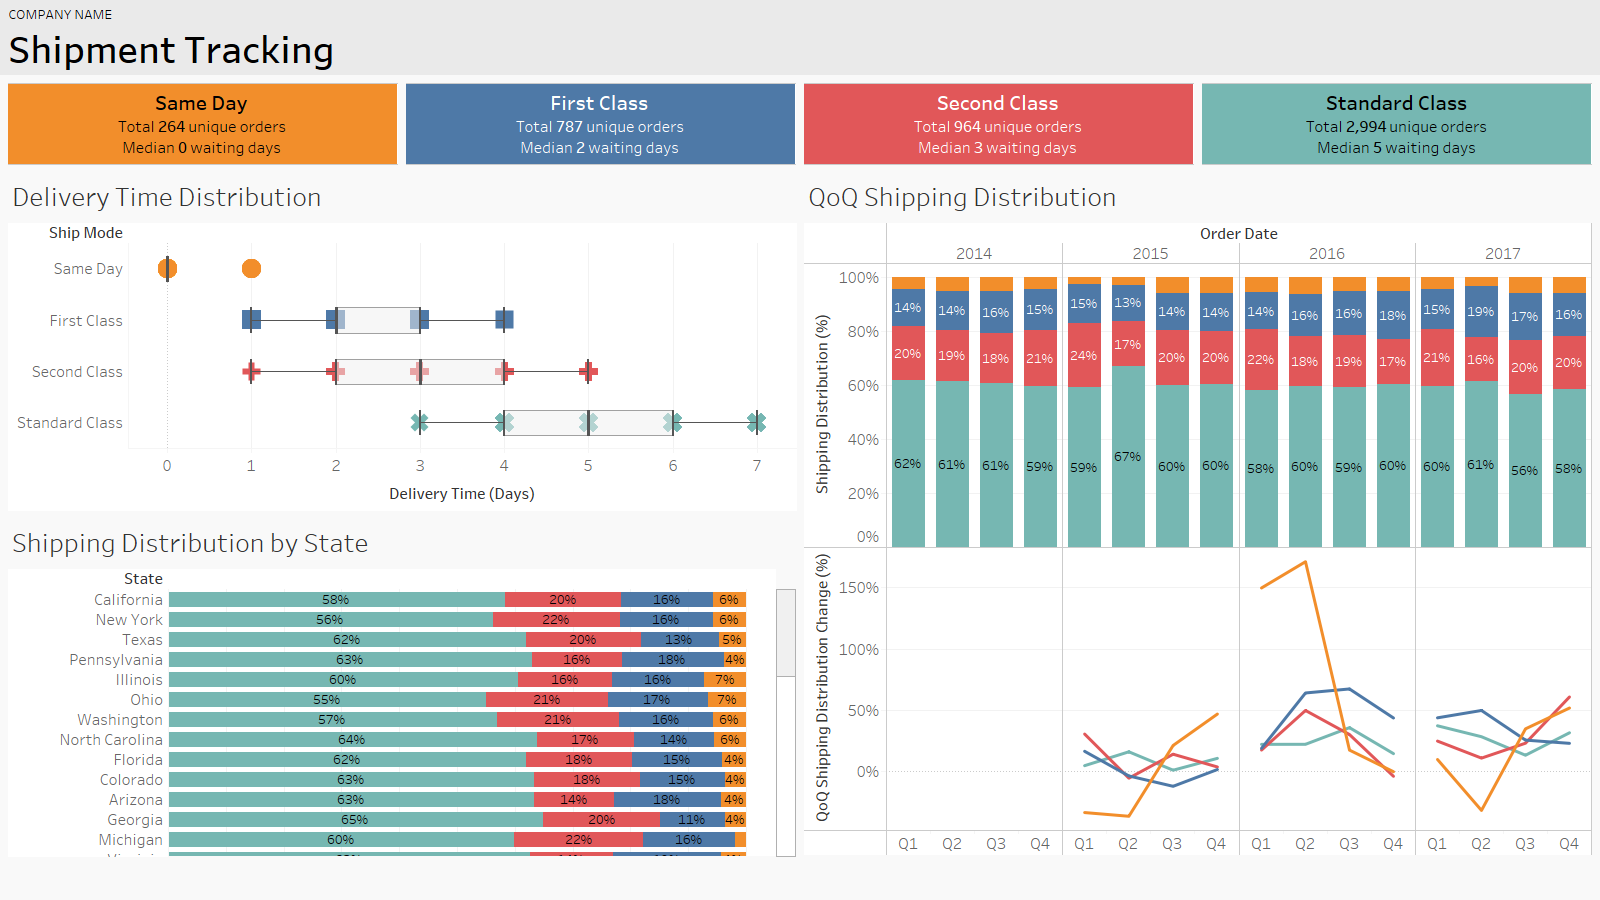

Layout of this report page (visuals, bound fields, positions):
{"tool":"tableau","page":{"name":"Shipment Tracking","canvas":[1600,900],"ordinal":3},"visuals":[{"type":"text","box":[0,0,1600,75]},{"type":"blank","box":[0,0,663.4,77.4]},{"type":"text","box":[663.4,0,836.3,77.4]},{"type":"blank","box":[1499.7,0,100.3,77.4]},{"type":"blank","box":[0,77.4,72.5,68]},{"type":"text","box":[72.5,77.4,1527.5,68]},{"type":"worksheet","title":"Ship Same Day","mark":"Square","cols":["SHIP_MODE"],"box":[4,79,398,90]},{"type":"worksheet","title":"Ship First Class","mark":"Square","cols":["SHIP_MODE"],"box":[402,79,398,90]},{"type":"worksheet","title":"Ship Second Class","mark":"Square","cols":["SHIP_MODE"],"box":[800,79,398,90]},{"type":"worksheet","title":"Ship Standard Class","mark":"Square","cols":["SHIP_MODE"],"box":[1198,79,398,90]},{"type":"blank","box":[0,145.5,1600,5.2]},{"type":"text","box":[0,150.7,400,83.7]},{"type":"text","box":[400,150.7,400,83.7]},{"type":"text","box":[800,150.7,400,83.7]},{"type":"text","box":[1200,150.7,400,83.7]},{"type":"worksheet","title":"Ship Delivery Time","mark":"Shape","rows":["SHIP_MODE"],"cols":["Calculation_517632483397394445"],"box":[4,169,796,346]},{"type":"worksheet","title":"Ship QoQ","mark":"Automatic","cols":["ORDER_DATE","ORDER_DATE"],"box":[800,169,796,691]},{"type":"blank","box":[0,234.4,1600,9.4]},{"type":"text","box":[0,243.8,800,306.6]},{"type":"text","box":[800,243.8,800,612.2]},{"type":"text","box":[884.3,415.5,693.3,155.9]},{"type":"worksheet","title":"Ship by State","mark":"Automatic","rows":["STATE"],"box":[4,515,796,345]},{"type":"text","box":[0,550.5,800,305.6]},{"type":"text","box":[884.3,571.4,693.3,68]},{"type":"text","box":[884.3,639.4,693.3,68]},{"type":"text","box":[884.3,707.5,693.3,142.3]}]}

Visuals, with their boxes in screenshot pixels (x1, y1, x2, y2), scaled from the page's 1600x900 canvas onto the 1600x900 screenshot:
text: 0, 0, 1599, 75
blank: 0, 0, 663, 77
text: 663, 0, 1500, 77
blank: 1500, 0, 1599, 77
blank: 0, 77, 72, 145
text: 72, 77, 1599, 145
"Ship Same Day" worksheet (Square marks): 4, 79, 402, 169
"Ship First Class" worksheet (Square marks): 402, 79, 800, 169
"Ship Second Class" worksheet (Square marks): 800, 79, 1198, 169
"Ship Standard Class" worksheet (Square marks): 1198, 79, 1596, 169
blank: 0, 146, 1599, 151
text: 0, 151, 400, 234
text: 400, 151, 800, 234
text: 800, 151, 1200, 234
text: 1200, 151, 1599, 234
"Ship Delivery Time" worksheet (Shape marks): 4, 169, 800, 515
"Ship QoQ" worksheet: 800, 169, 1596, 860
blank: 0, 234, 1599, 244
text: 0, 244, 800, 550
text: 800, 244, 1599, 856
text: 884, 416, 1578, 571
"Ship by State" worksheet: 4, 515, 800, 860
text: 0, 550, 800, 856
text: 884, 571, 1578, 639
text: 884, 639, 1578, 707
text: 884, 708, 1578, 850
